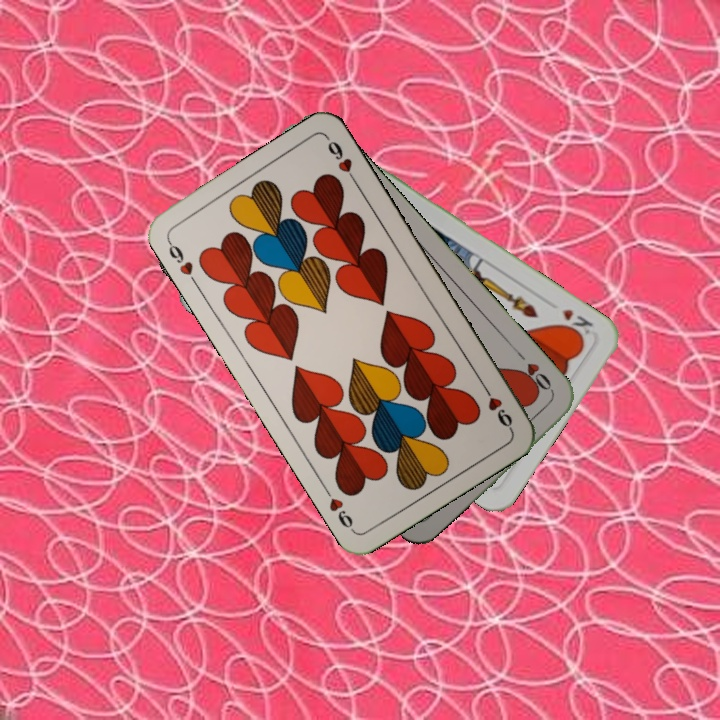H9: (478, 380, 516, 433), (163, 236, 201, 289)
HK: (556, 305, 596, 342)
HO: (512, 347, 557, 397)
